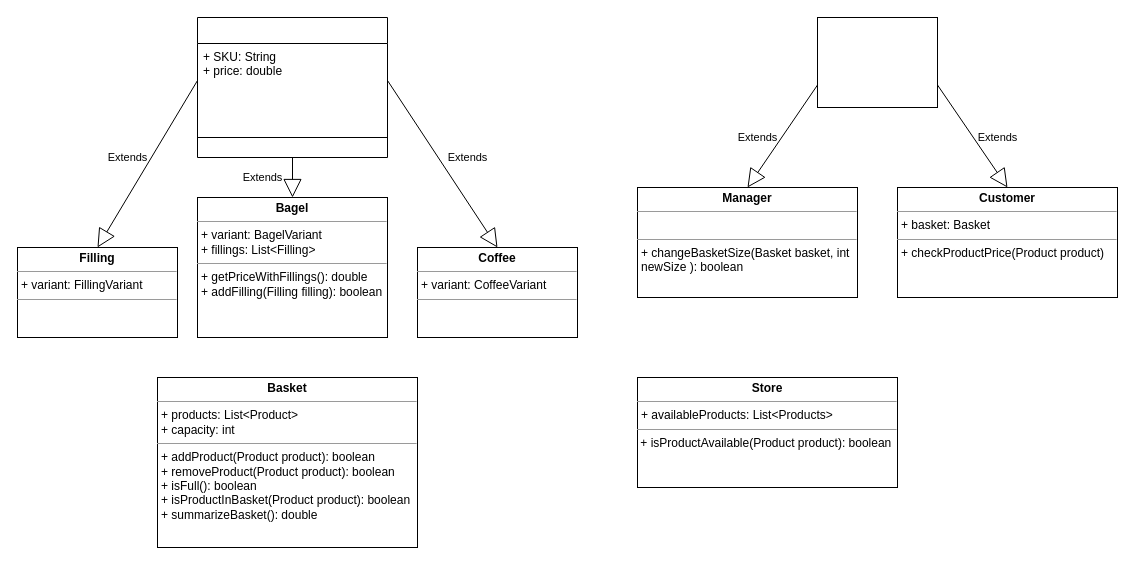
Some shapes in this 1135 by 565 pixel diagram are drawn without their labels. The box of each missing label's shape, as (x1, y1, x2, y2) in pixels:
Product: (196, 16, 388, 158)
User + fullName: String: (816, 16, 938, 108)
